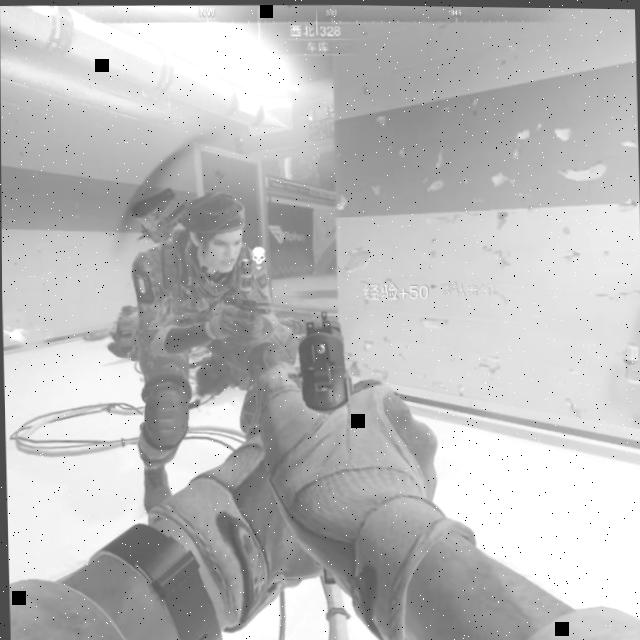MW2_body: (130, 165, 290, 404)
